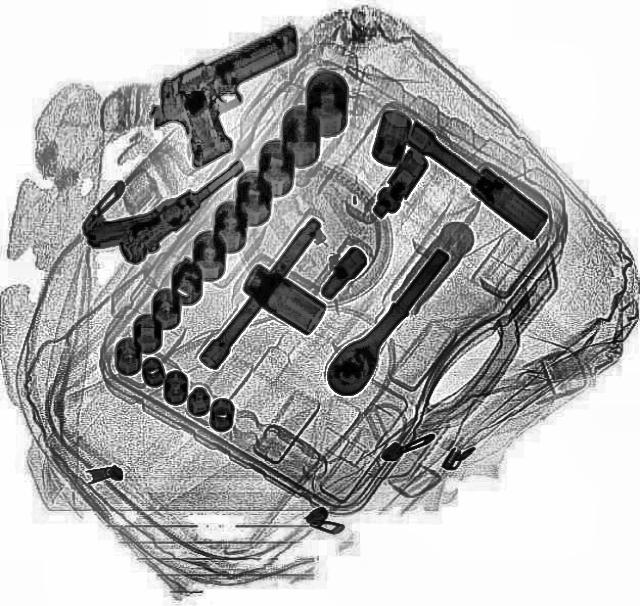Gun: (130, 21, 338, 175), (76, 125, 250, 278)
